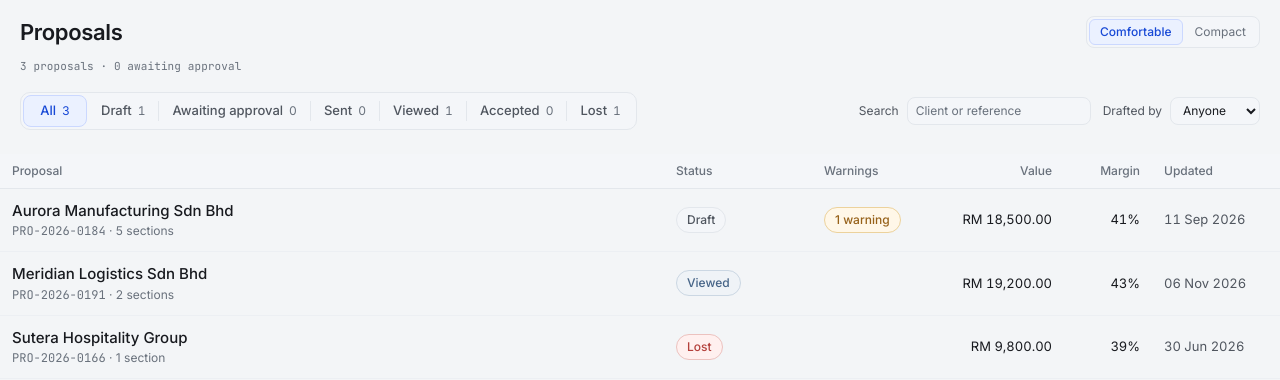
it: M07 · proposal list › separates an agent's drafts from a person's, reading `runId` not a badge
Expected: the text "Aurora Manufacturing Sdn Bhd" is shown, [12, 200, 234, 220]
Select "A person" in the dropdown labelled "Drafted by" at (1215,110), box [1170, 96, 1260, 124]
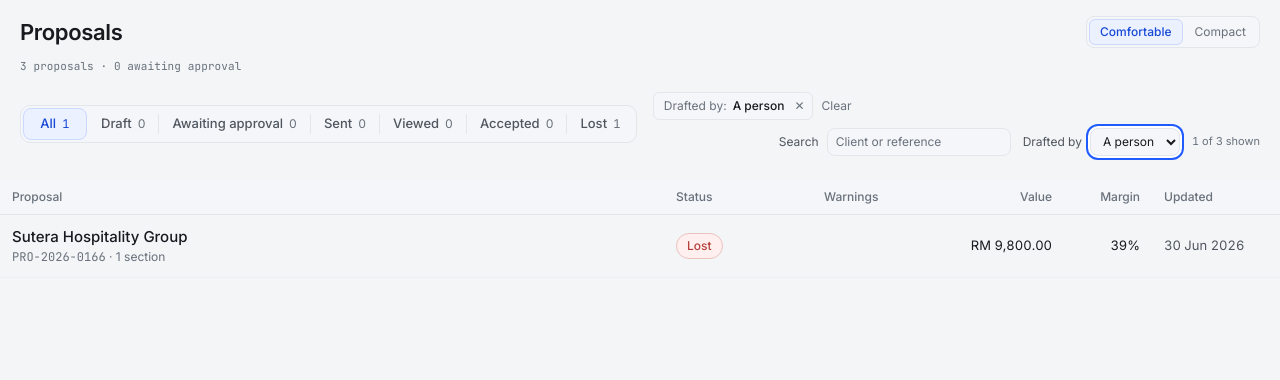
Result: the text "Drafted by:" is shown at [664, 96, 727, 114]
Result: the text "1 of 3 shown" is shown at [1192, 133, 1260, 150]
